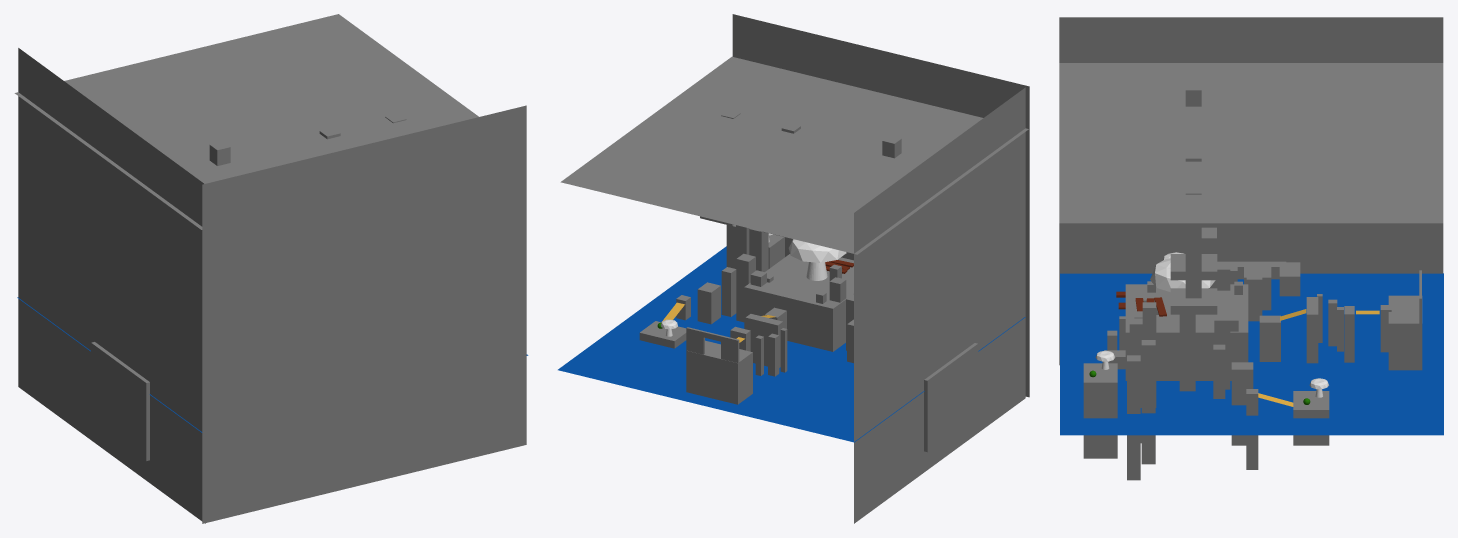
Rendered from Blockout.fbx.
3 views of the same model, side by side, from view 1: azimuth 30°, elevation 25°; view 2: azimuth 150°, elevation 25°; view 3: azimuth 270°, elevation 25° (orthographic). The views are drawn at different scales.
Parts seen in each view (by area): view 1: Plane.010, Plane.011, Plane.009, Cube.031; view 2: Plane.011, Plane.009, Plane.006, Plane.010, Plane.001, Cube.031, Cube, Plane, Cube.005, Cube.024, Icosphere, Cube.021 (+3 smaller); view 3: Plane.009, Plane.006, Plane.011, Plane.001, Cube.047, Cube, Cube.045, Cube.046, Cube.041, Cube.025, Cube.040, Cube.042 (+16 smaller).
Boxes of the visible parts, box(x1,y1,x2,y2) form: Plane.010: box(202, 105, 526, 523); Plane.011: box(18, 48, 205, 523); Plane.009: box(14, 14, 478, 229); Cube.031: box(91, 342, 149, 460); Plane.011: box(854, 87, 1025, 523); Plane.009: box(560, 56, 1028, 254); Plane.006: box(558, 246, 1025, 442); Plane.010: box(732, 14, 1029, 397); Plane.001: box(744, 254, 853, 351); Cube.031: box(924, 343, 978, 452); Cube: box(686, 340, 752, 404); Plane: box(686, 327, 739, 362); Cube.005: box(745, 314, 783, 367); Cube.024: box(697, 282, 720, 324); Icosphere: box(788, 239, 846, 262); Cube.021: box(736, 253, 755, 322); Plane.009: box(1059, 63, 1443, 223); Plane.006: box(1060, 273, 1443, 435); Plane.011: box(1059, 17, 1443, 365); Plane.001: box(1125, 284, 1248, 380); Cube.047: box(1083, 363, 1117, 458); Cube: box(1388, 295, 1422, 370); Cube.045: box(1141, 340, 1155, 464); Cube.046: box(1127, 355, 1140, 480); Cube.041: box(1185, 187, 1201, 298); Cube.025: box(1293, 391, 1329, 445); Cube.040: box(1179, 314, 1195, 391); Cube.042: box(1170, 288, 1217, 314).
Bounding box in the file's own units: 11141 × 11087 × 11099.
